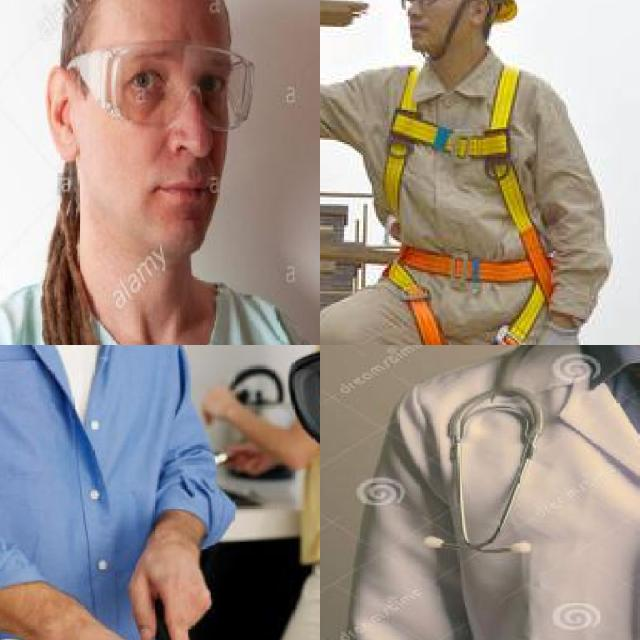Harness: (361, 60, 548, 345)
No_Ear-Protection: (44, 64, 84, 162)
face_nomask: (110, 54, 242, 214)
glasses: (64, 39, 256, 134)
hand_noglove: (118, 541, 224, 640), (34, 617, 168, 640), (224, 432, 282, 481), (194, 378, 239, 423)
head_nohelmet: (359, 345, 640, 640)
person: (0, 0, 320, 345), (0, 345, 231, 640), (251, 345, 320, 640)
